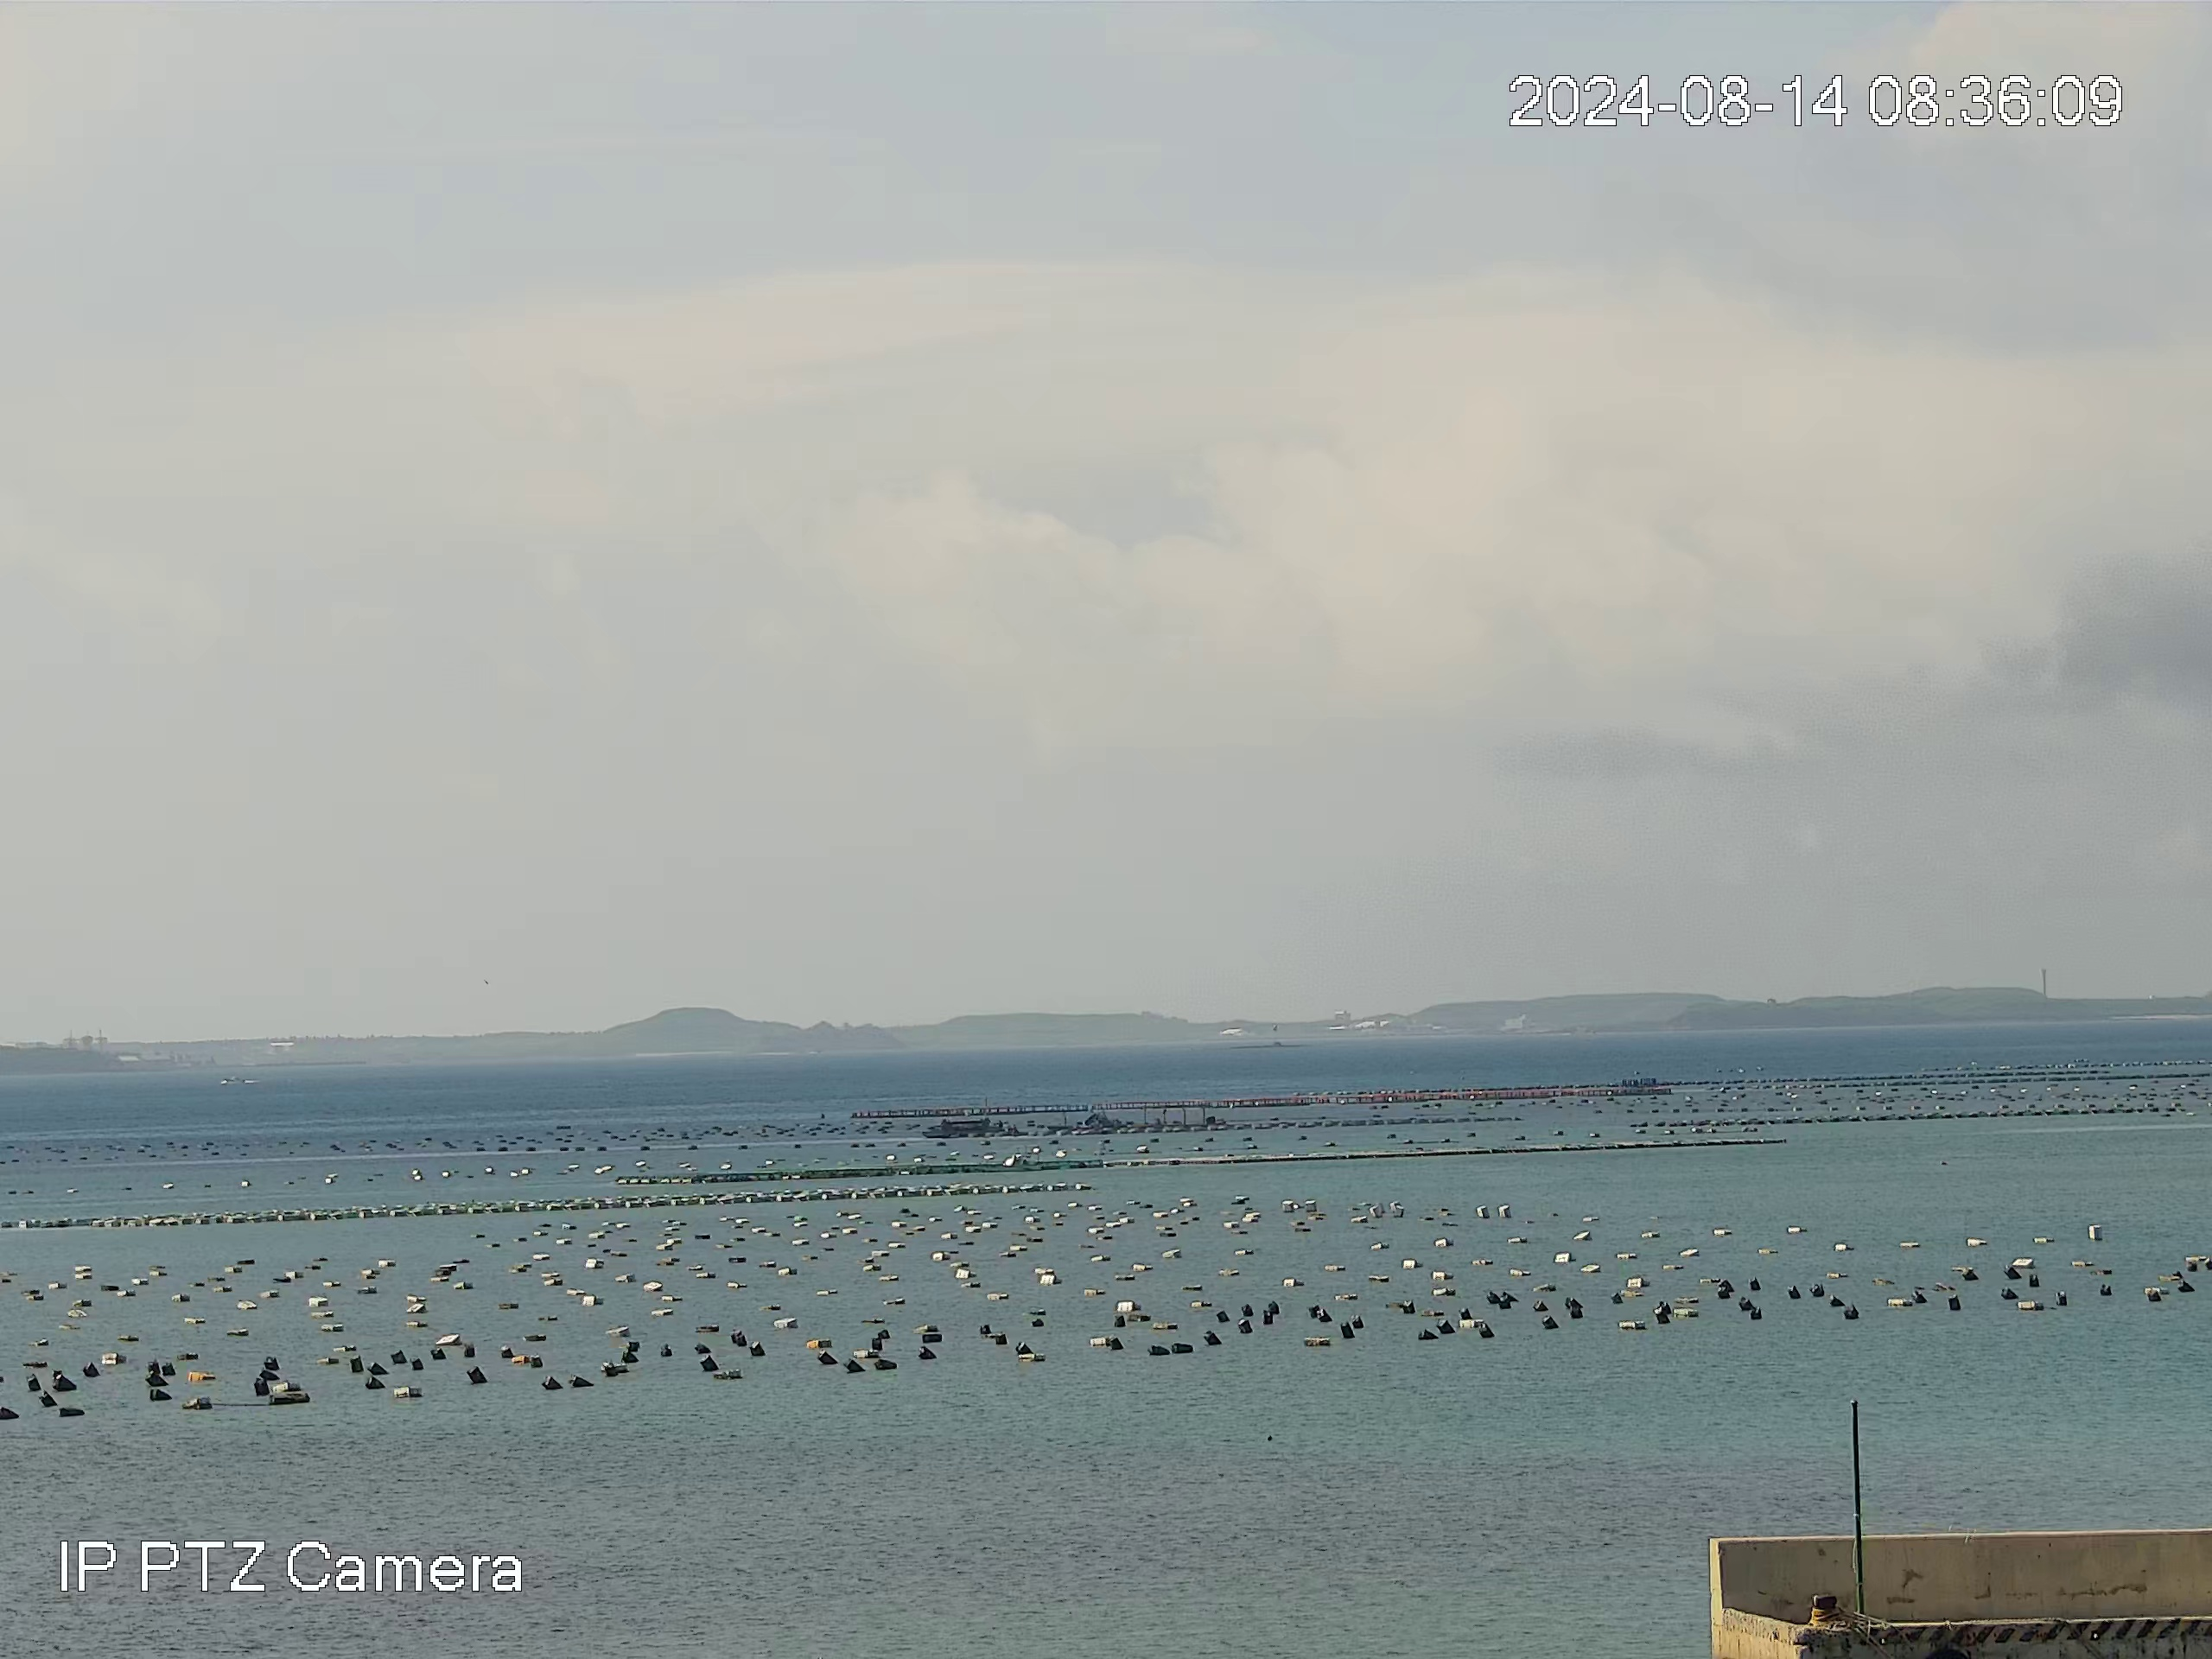boat: (924, 1118, 1001, 1137)
